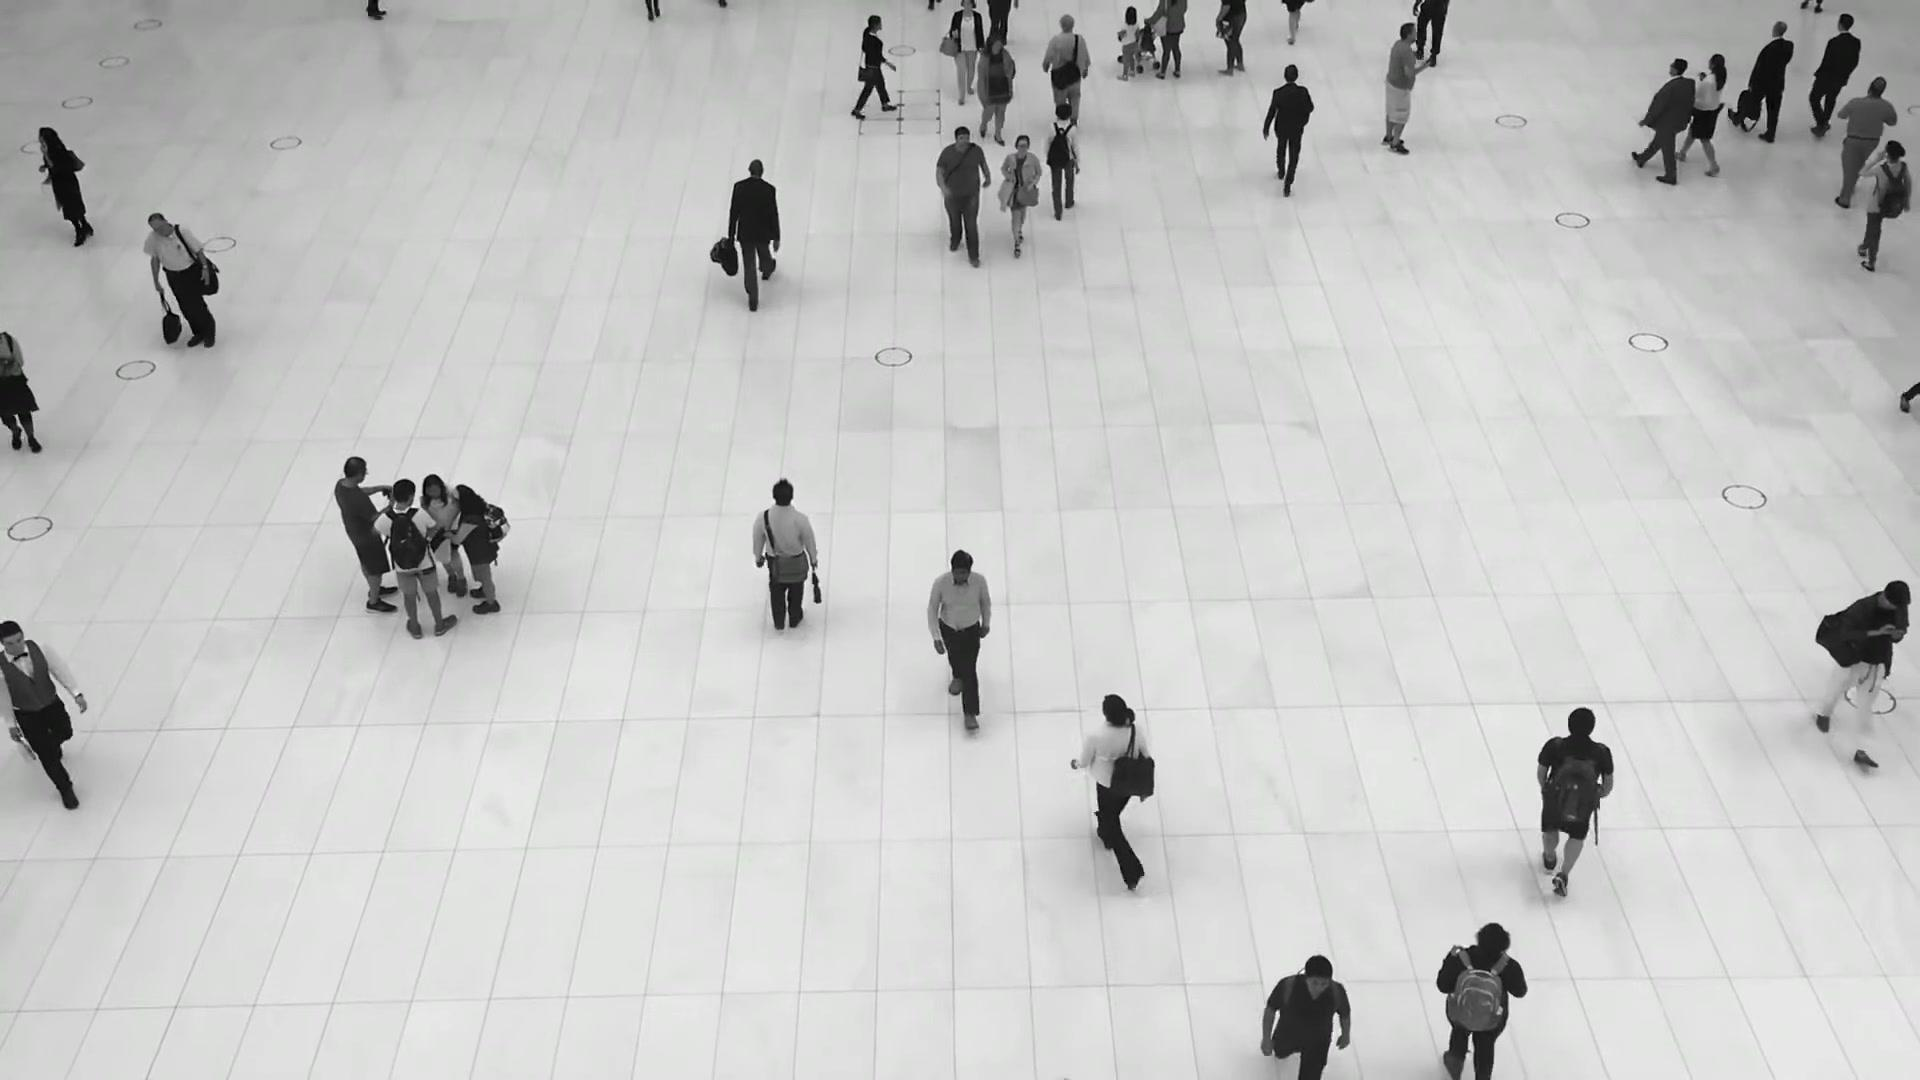person: (1814, 579, 1911, 768), (0, 620, 94, 813), (1066, 694, 1150, 889), (1536, 706, 1614, 898), (1435, 920, 1528, 1080), (378, 477, 460, 635), (926, 548, 993, 733), (1259, 954, 1352, 1080), (751, 478, 821, 632), (142, 212, 217, 350), (333, 455, 399, 609), (1833, 75, 1898, 208), (1630, 57, 1695, 185), (728, 158, 781, 313), (1728, 20, 1794, 143), (935, 125, 991, 268), (1855, 139, 1911, 273), (449, 482, 502, 614), (37, 126, 95, 247), (1262, 64, 1315, 197), (1807, 13, 1861, 137), (1674, 54, 1726, 179), (1380, 22, 1425, 155), (421, 470, 469, 592), (1041, 14, 1091, 123), (998, 134, 1042, 258), (1043, 103, 1082, 221), (976, 33, 1015, 146), (855, 13, 896, 116), (947, 0, 985, 104), (1115, 5, 1139, 81)
